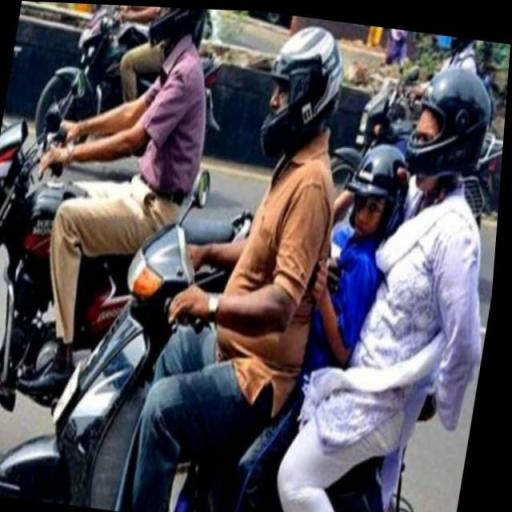Helmet: (130, 2, 208, 64)
Motor: (4, 138, 190, 406)
